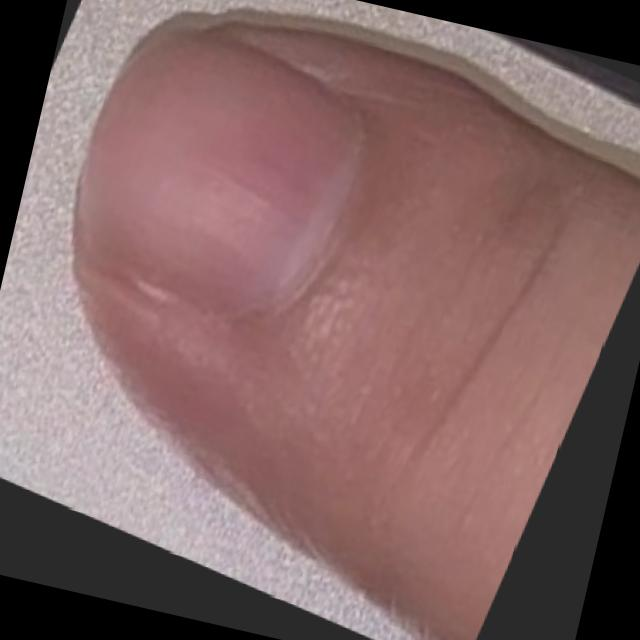Nail: (78, 25, 370, 314)
